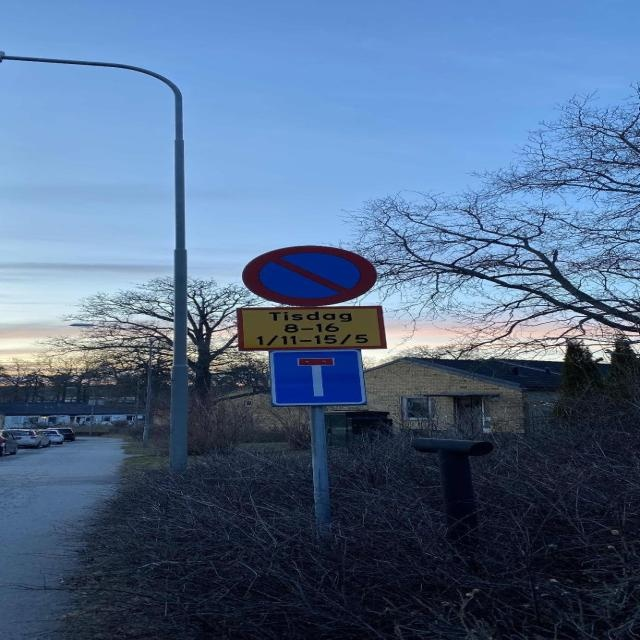avstignnigsplats: (244, 247, 375, 306)
